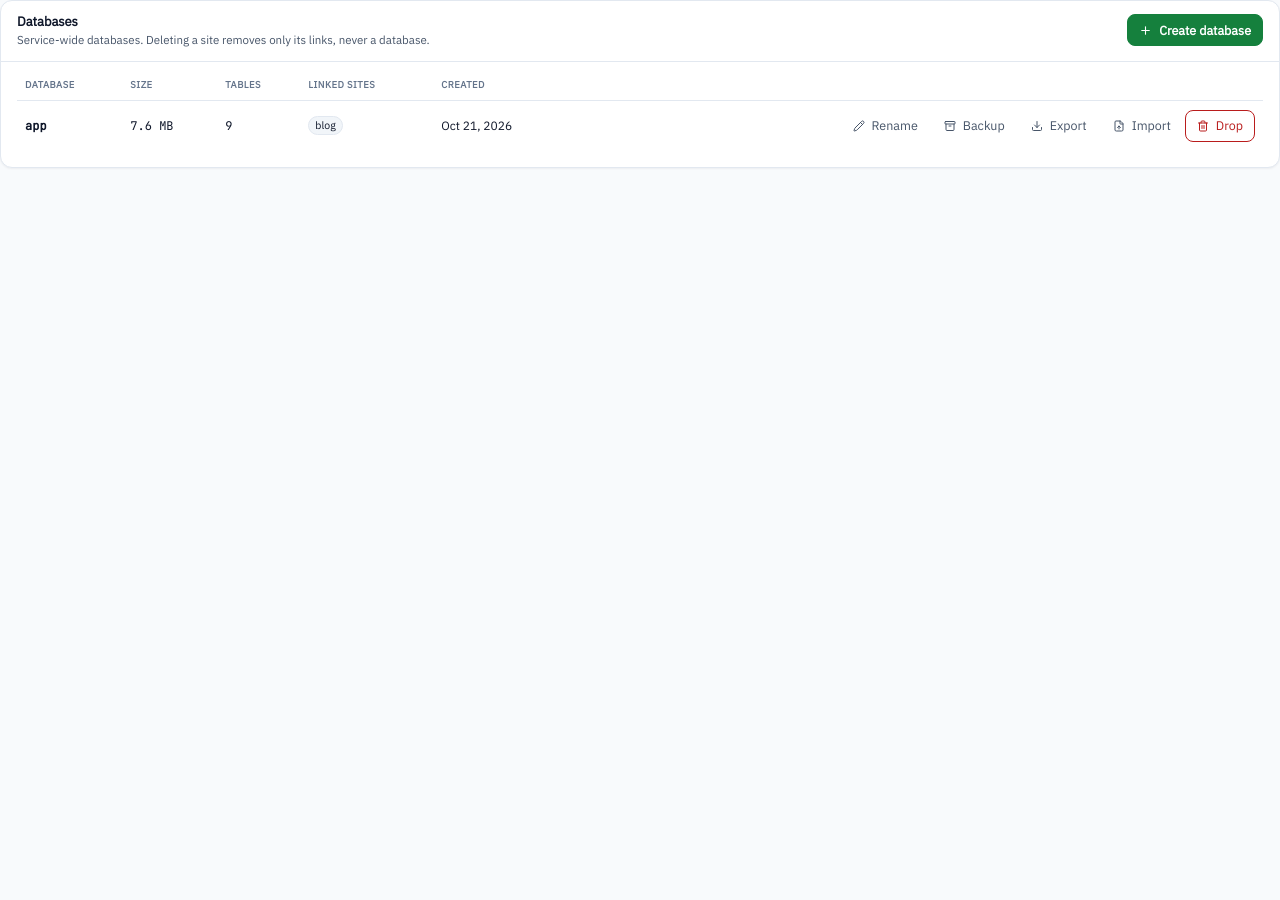
it: DatabaseTab › requires linked sites to be stopped before renaming
Click the button with aria-label "rename app". click: (885, 126)
box: [840,110,930,142]
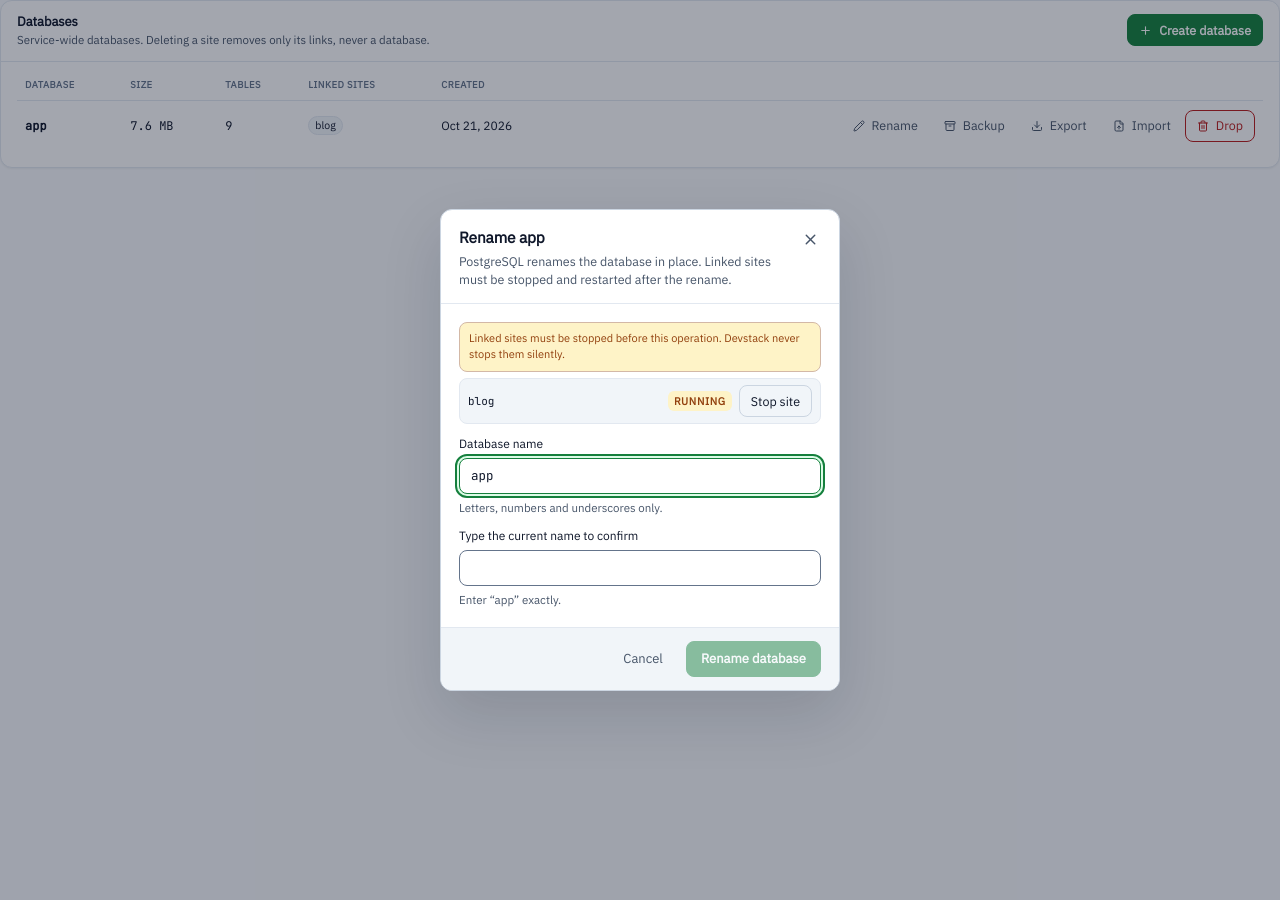
Expected: the text "blog" is shown, [468,394,494,408]
Replace the text in the field labelled "Database name" with "app_v2". click: (640, 476)
box: [459,458,821,494]
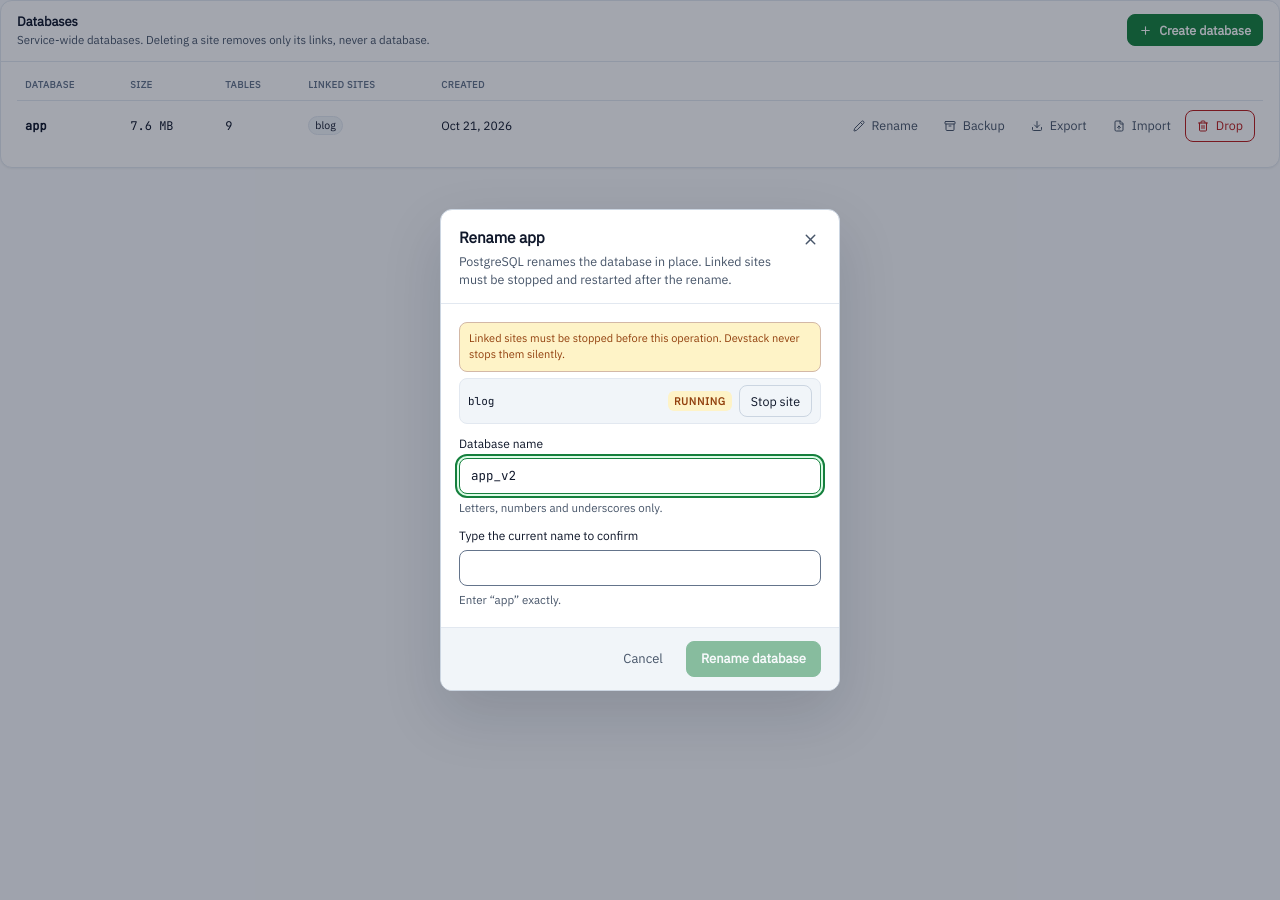
Type "app" into the field labelled "Type the current name to confirm". click: (640, 568)
box: [459,550,821,586]
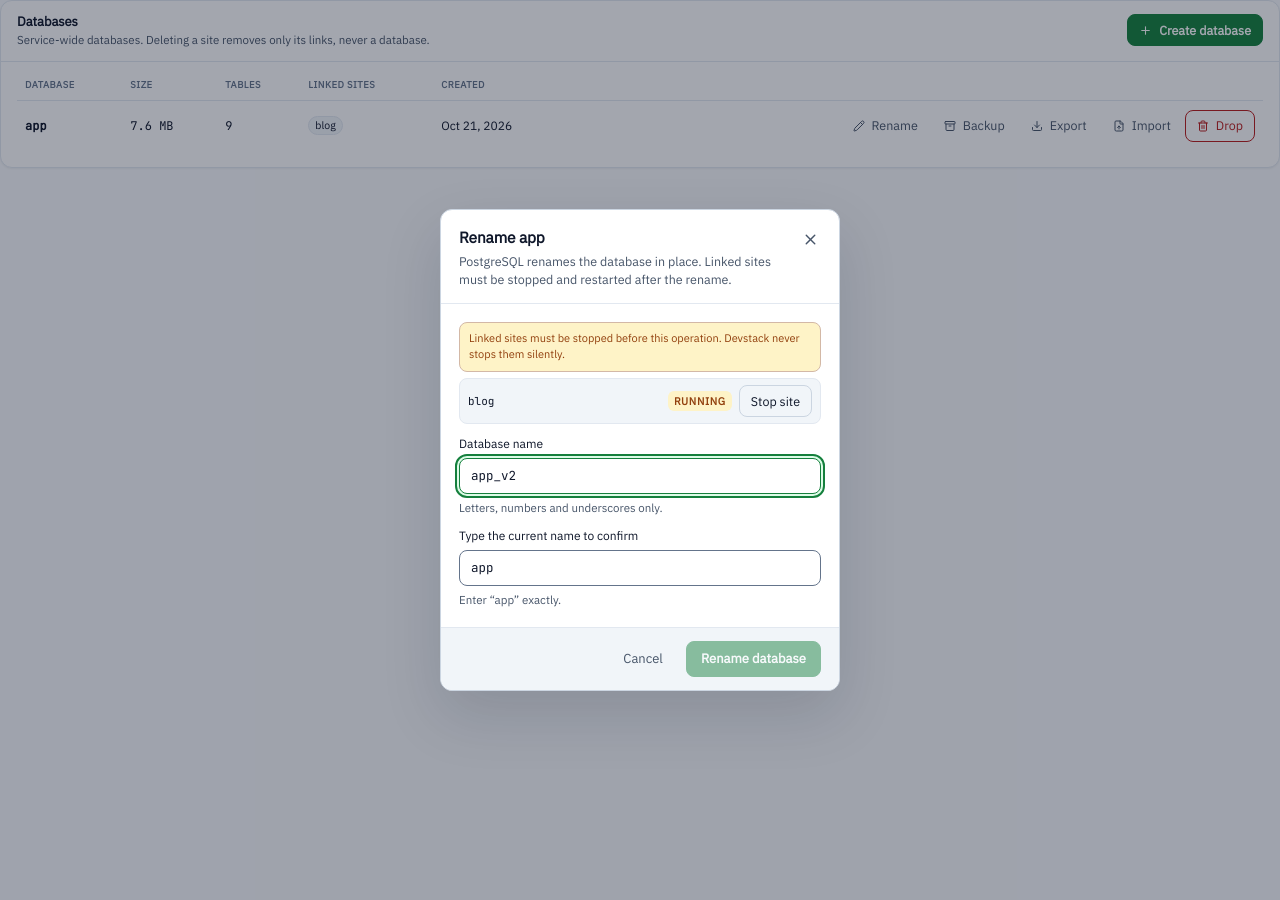
Expected: the button "Rename database" is disabled, [686,641,821,677]
Press Enter in the field labelled "Type the current name to confirm", box [459,550,821,586]
Click the button with aria-label "Stop site blog". click: (775, 401)
box: [739,385,812,417]
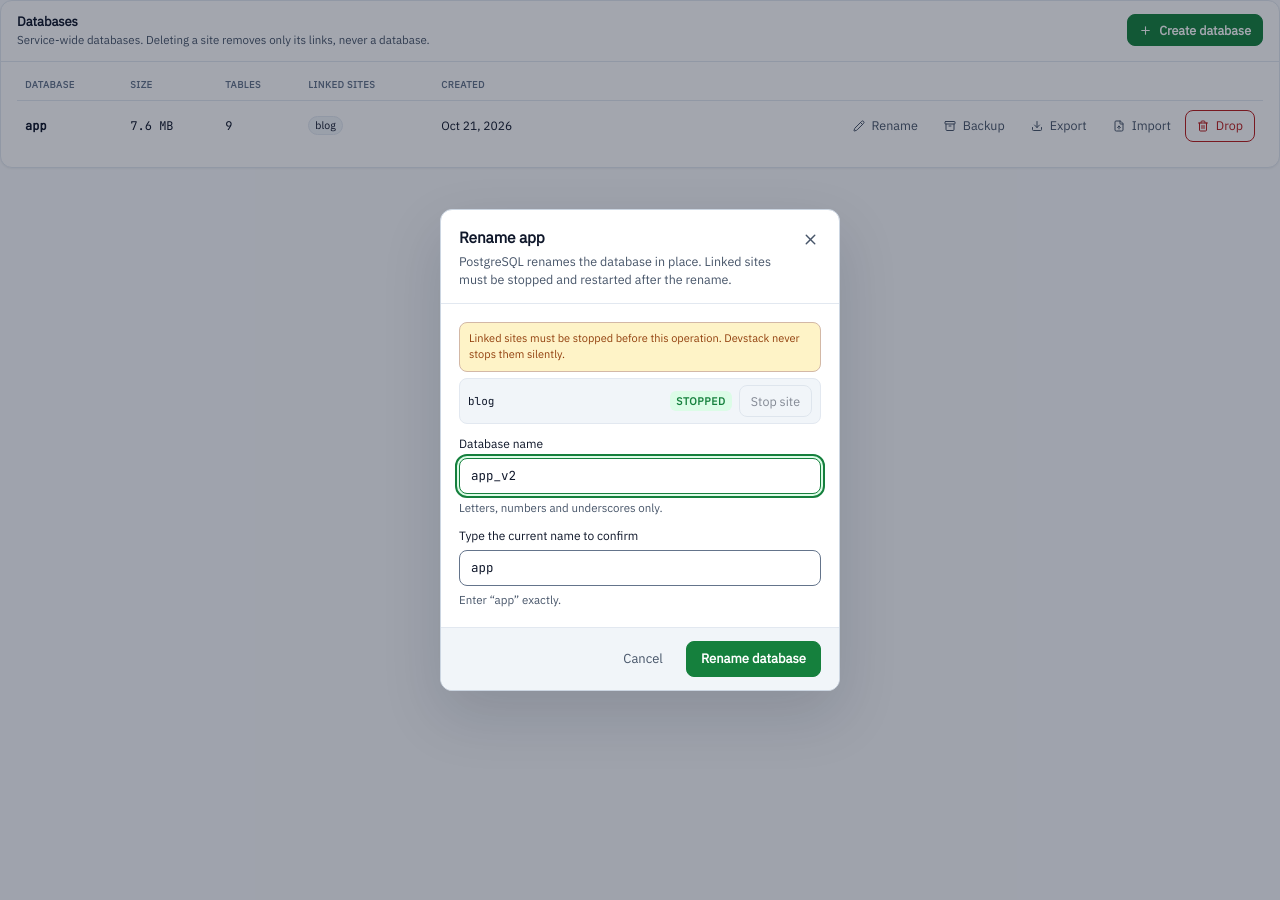
Expected: the button "Rename database" is enabled, [686,641,821,677]
